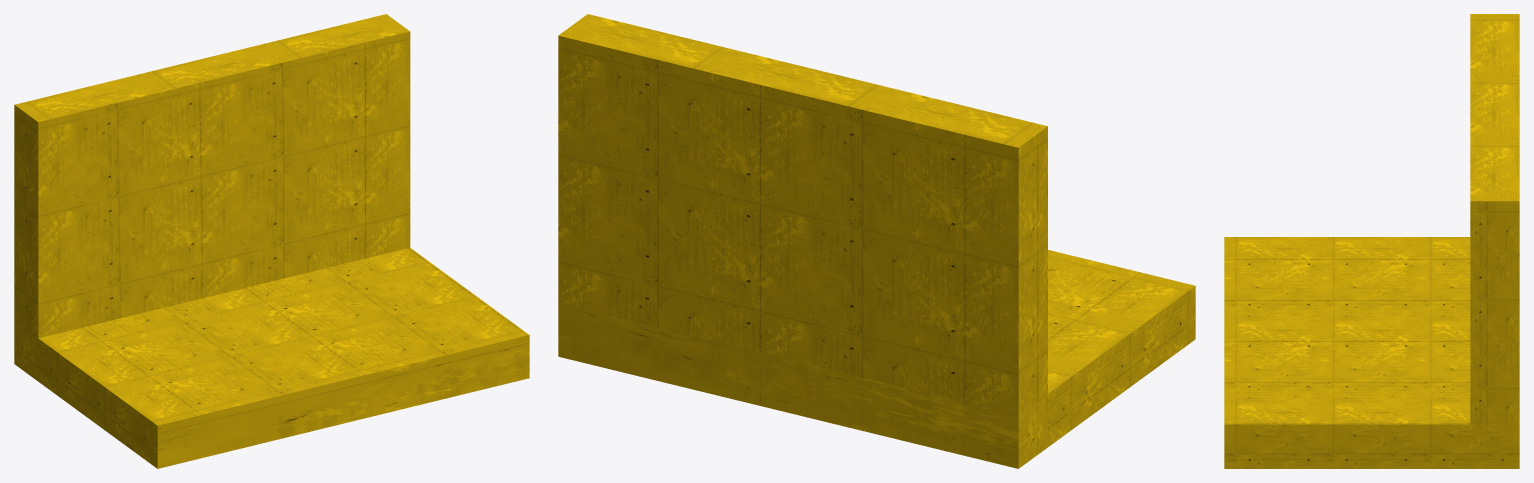
File: wall.obj
3 renders of one model, left to right at view 1: azimuth 30°, elevation 25°; view 2: azimuth 150°, elevation 25°; view 3: azimuth 270°, elevation 25°, orthographic. The views are drawn at different scales.
Visible parts, largest first — view 1: Cube.001; view 2: Cube.001; view 3: Cube.001.
Part boxes in pixels (<box>): Cube.001: <box>14,14,529,468</box>; Cube.001: <box>558,14,1195,468</box>; Cube.001: <box>1224,14,1519,468</box>.
Bounding box in the file's own units: 18 × 12 × 12.
